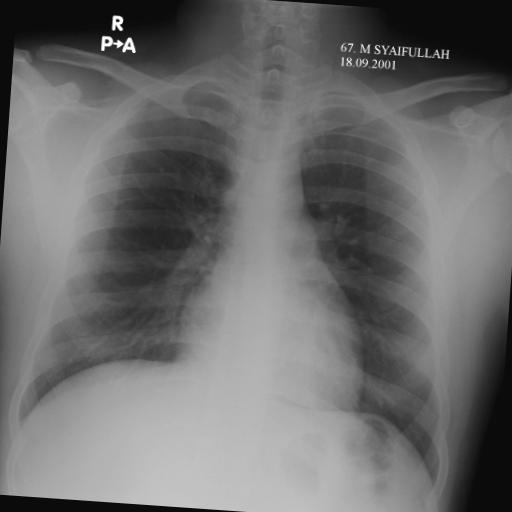normal: (5, 30, 474, 496)
